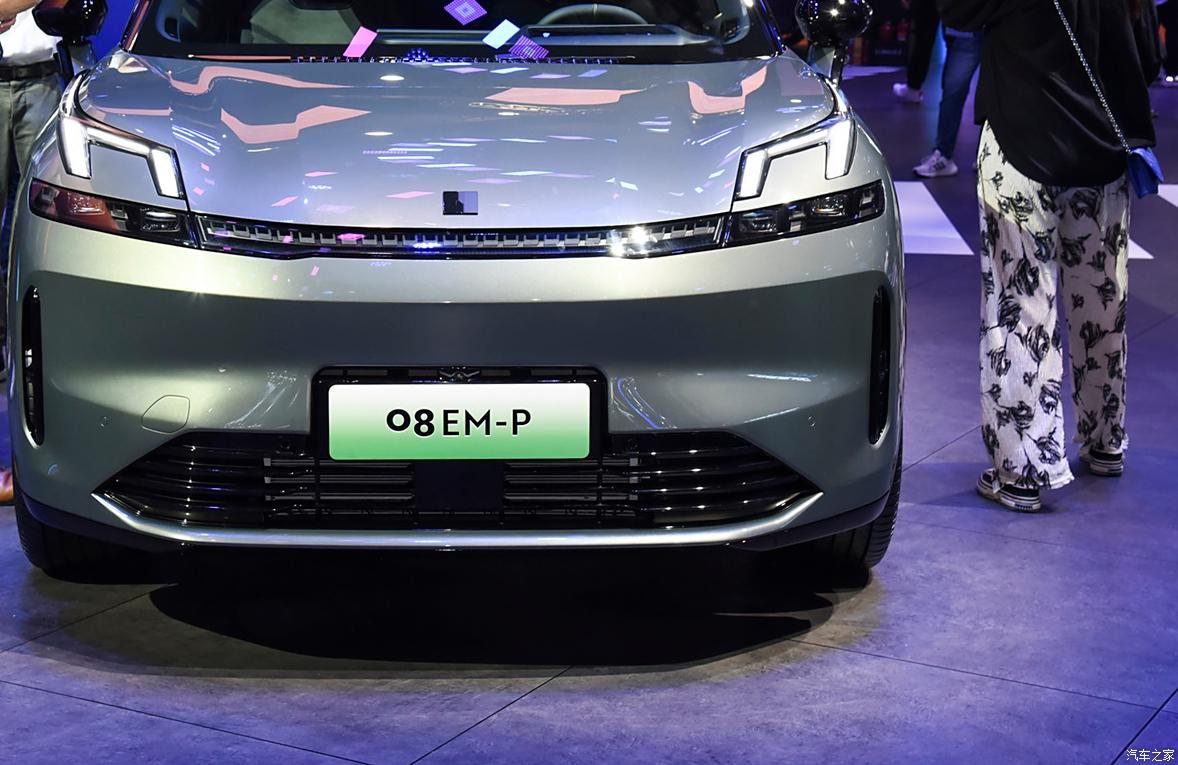LINK&CO: (443, 191, 478, 214)
